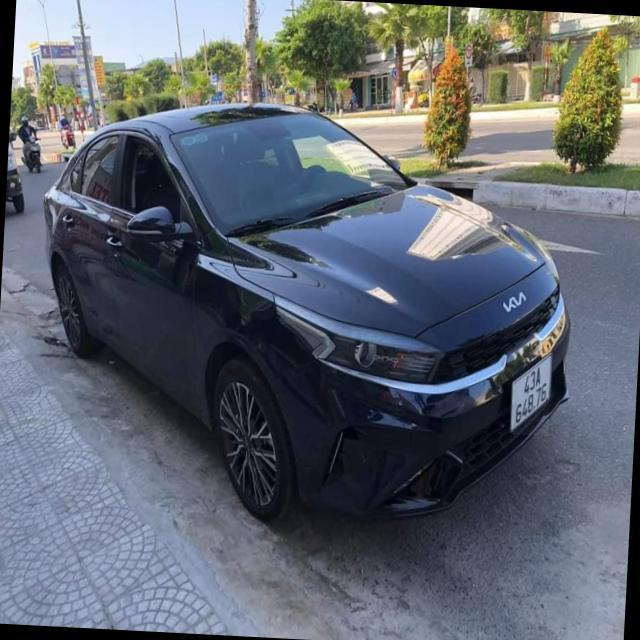car: (36, 103, 582, 532)
plate: (506, 352, 554, 432)
